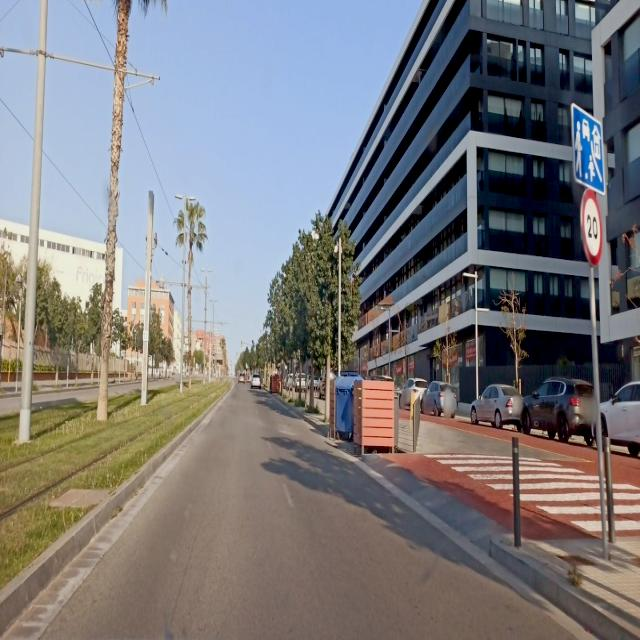car: (520, 375, 597, 445), (596, 379, 640, 463), (470, 382, 522, 428), (420, 380, 457, 417), (399, 377, 428, 408), (250, 371, 262, 390), (238, 370, 245, 384)
